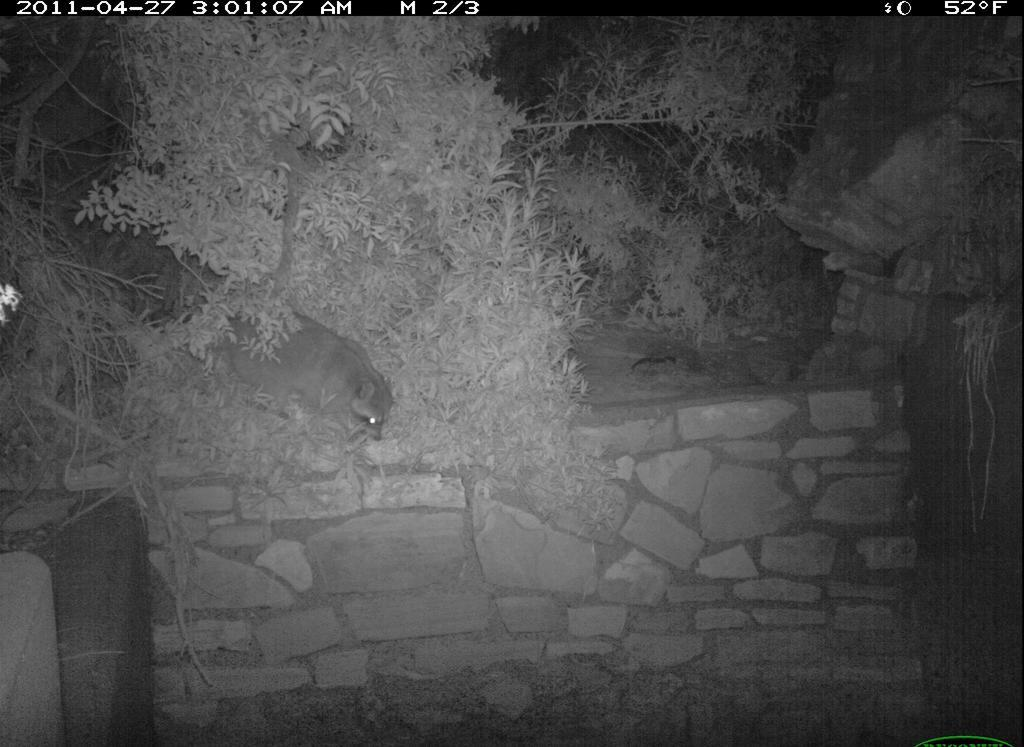raccoon: (203, 289, 405, 456)
